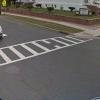Crosswalk: (3, 36, 94, 71)
